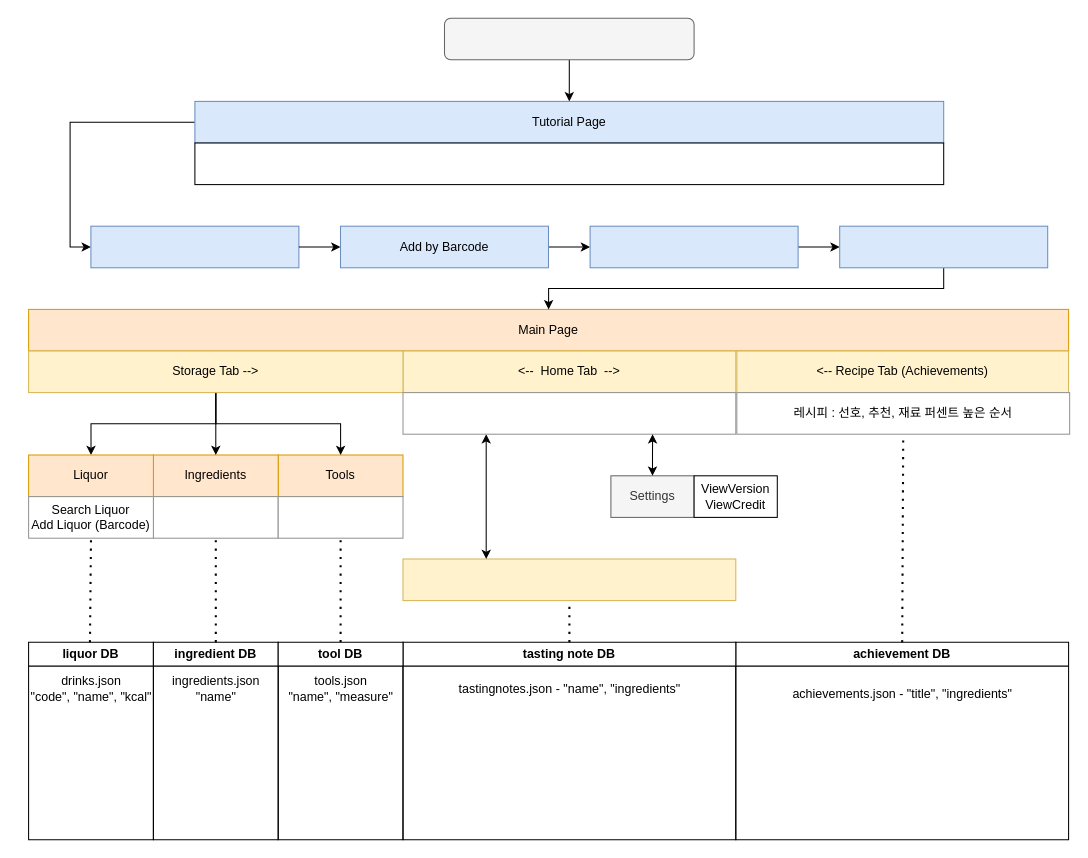
The diagram is 1088 pixels wide and 858 high, and some of its shapes have lost their labels. The centre of each missing label's shape, as x and y in pixels:
"< inputs > username, flavor prefer, alcohol prefer, etc.." belongs at [569,163].
"Ingredients Registration Tutorial" belongs at [693,246].
"Launch App" belongs at [568,38].
"Liquor Registration Tutorial" belongs at [194,246].
"Measuring Tips Add Tools" belongs at [340,517].
"Search Ingredients Add Ingredients" belongs at [215,517].
"Tasting Note Tab (Scroll)" belongs at [569,579].
"Tools Registration Tutorial" belongs at [943,246].
"추천 기능, 도감 몇퍼, 최근 해금 레시피" belongs at [569,413].
